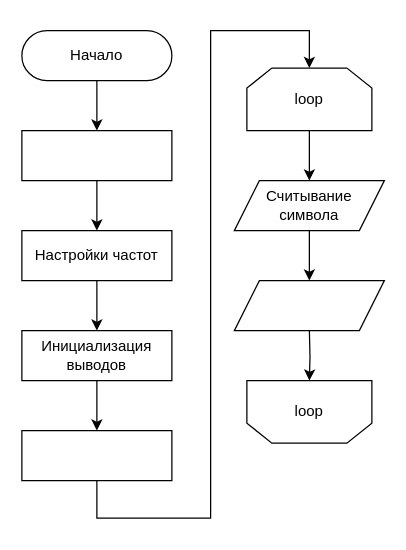
The diagram is 406 pixels wide and 550 high, and some of its shapes have lost their labels. The centre of each missing label's shape, as x and y in pixels:
"Запись символа" goes at point 308,305.
"Инициализация UART" goes at point 96,455.
"Получение периферии" goes at point 96,155.
